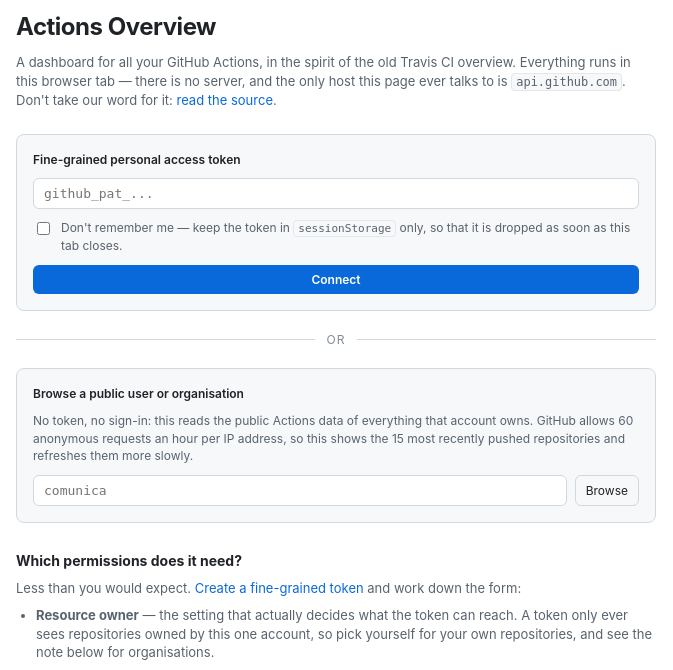
SetupScreen › browsing without a token › refuses an empty owner
Step 1. Click the button "Browse" → (607, 490), box left=575, top=475, right=639, bottom=506
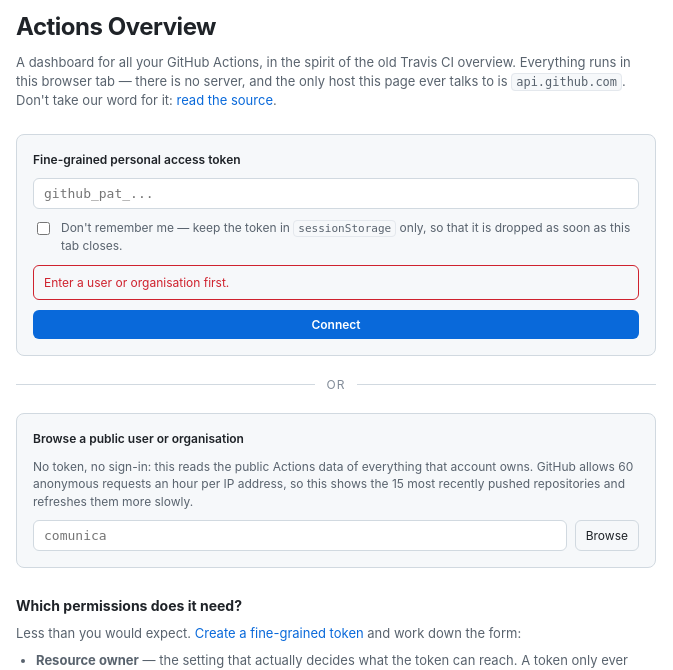
Expected: the message reads "Enter a user or organisation first.", left=44, top=275, right=229, bottom=290
